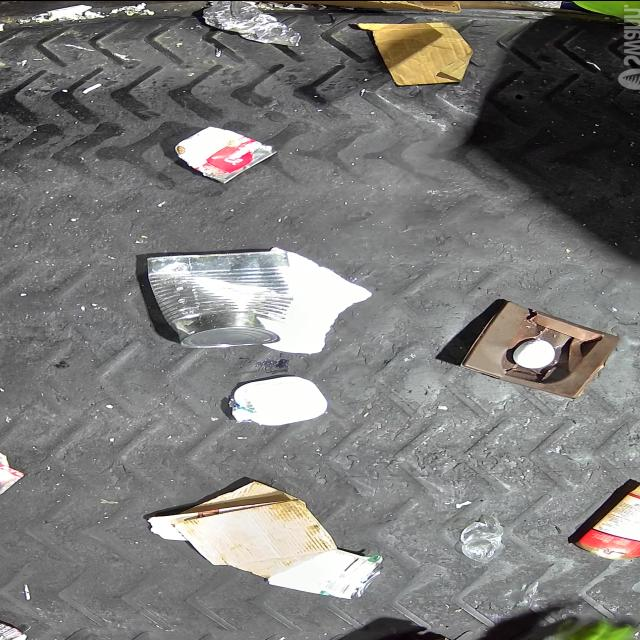can: (146, 250, 292, 348), (268, 547, 387, 599), (174, 124, 276, 182)
